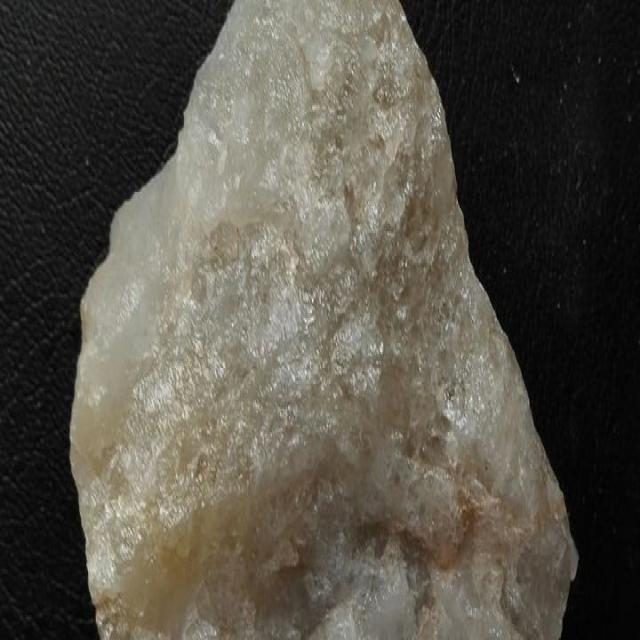Pecahan Agregat: (32, 10, 594, 640)
